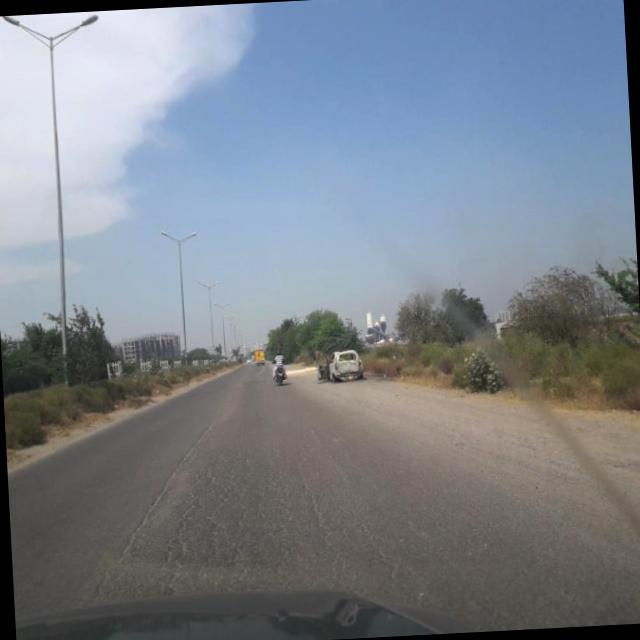crack: (90, 432, 403, 598)
pothole: (97, 417, 232, 588)
